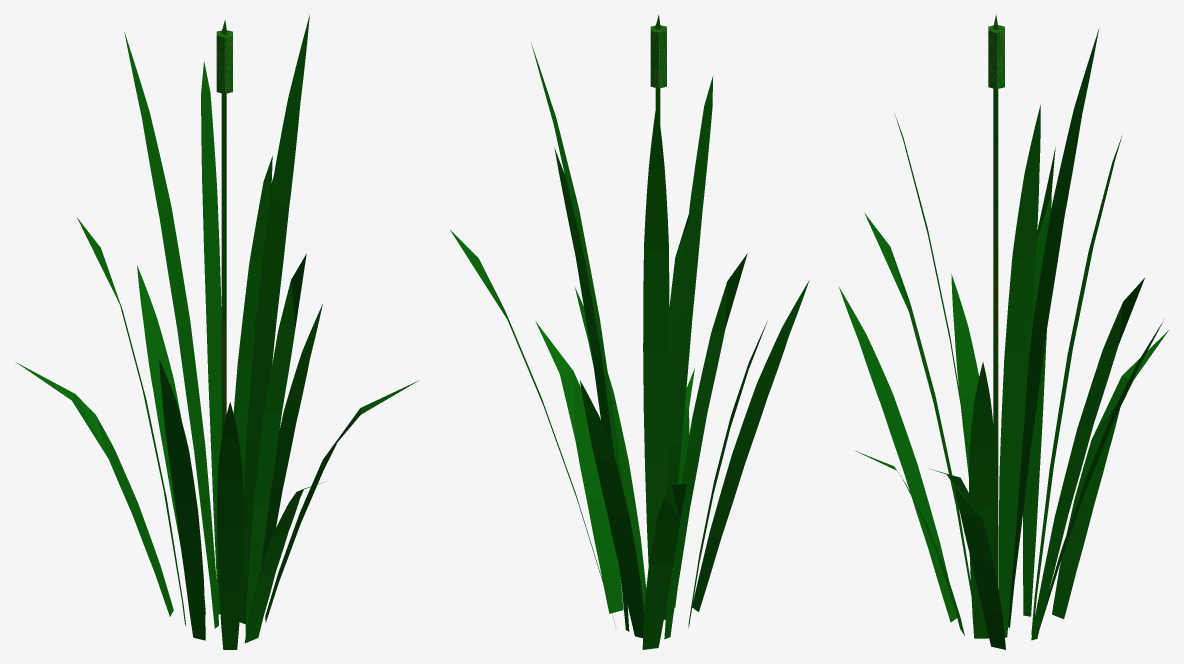
The model's file is Vegetation_Modular_New_Reeds_01.FBX.
3 views of the same model, side by side, from view 1: azimuth 30°, elevation 25°; view 2: azimuth 150°, elevation 25°; view 3: azimuth 270°, elevation 25° (orthographic).
Visible parts, largest first — view 1: Vegetation_Modular_New_Reeds_01; view 2: Vegetation_Modular_New_Reeds_01; view 3: Vegetation_Modular_New_Reeds_01.
Boxes of the visible parts, bbox=[...] form: Vegetation_Modular_New_Reeds_01: bbox=[16, 14, 419, 649]; Vegetation_Modular_New_Reeds_01: bbox=[450, 14, 809, 649]; Vegetation_Modular_New_Reeds_01: bbox=[839, 14, 1168, 649].
Size of the model in its own units: 912 by 1874 by 916.
